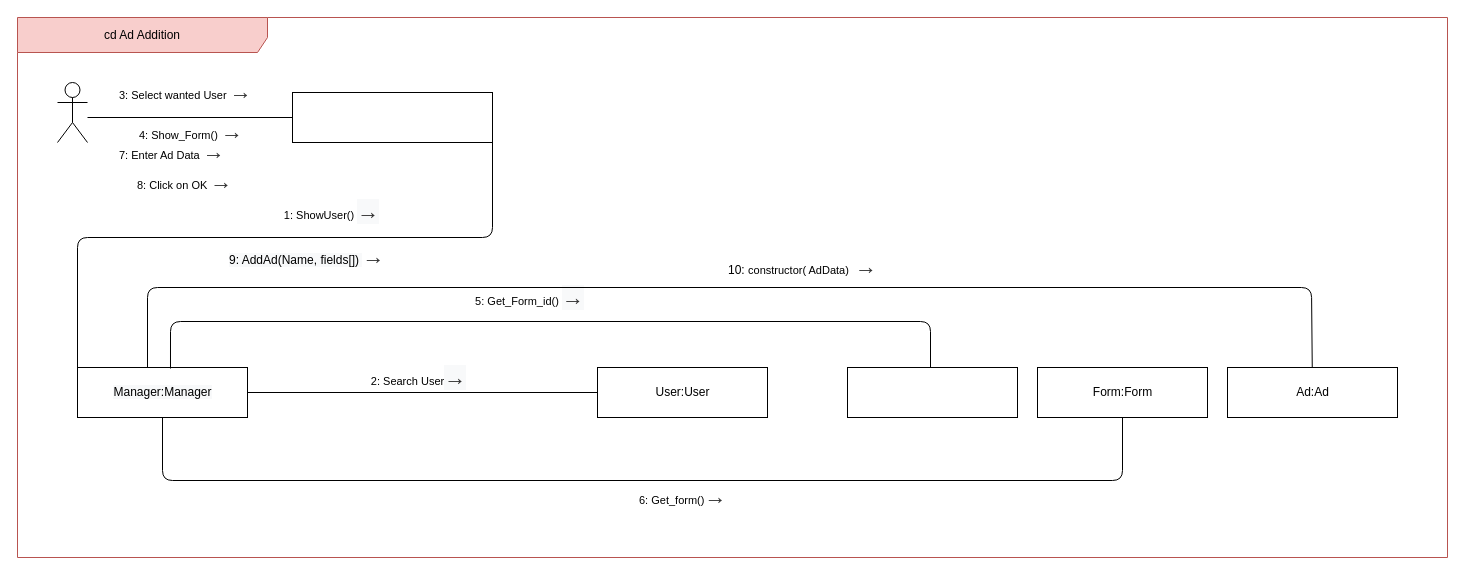
Image size: 1465x575. Some labels were removed from this diagram. The centre of each missing label's shape, as x and y in pixels:
"<< Ad Addition Panel>>" goes at [392,117].
"Company:company" goes at [932,392].
"Manager" goes at [72,112].
